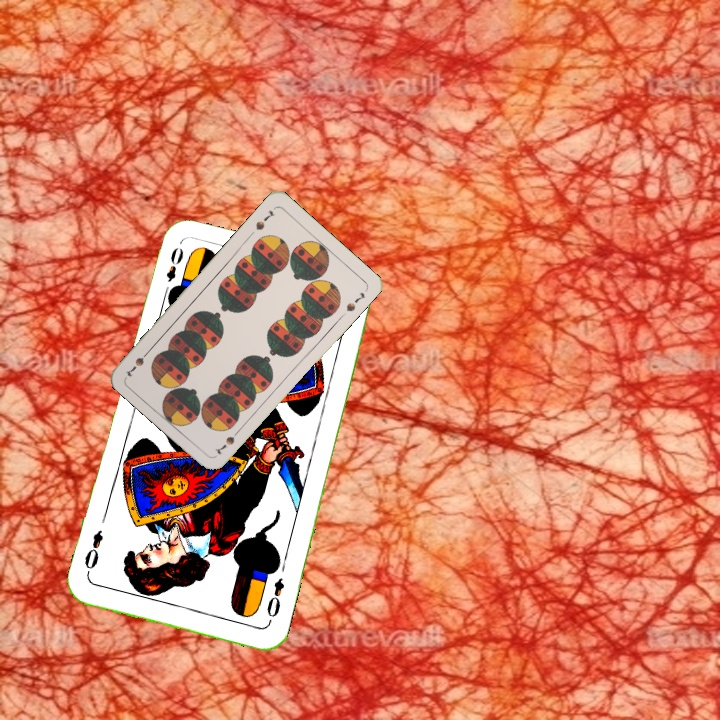EO: (159, 243, 186, 300), (262, 573, 287, 626)
S7: (211, 425, 243, 458), (251, 206, 278, 233)
